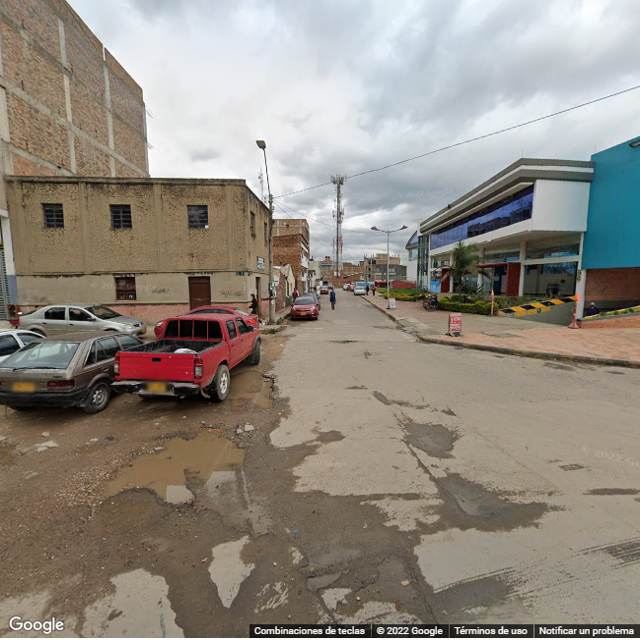D10: (397, 547, 442, 624)
D40: (94, 426, 244, 503), (306, 567, 342, 590)
